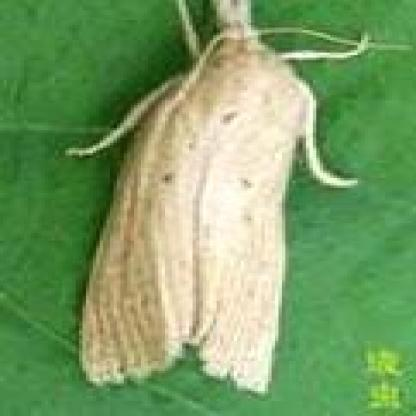stem-borer: (60, 0, 358, 393)
